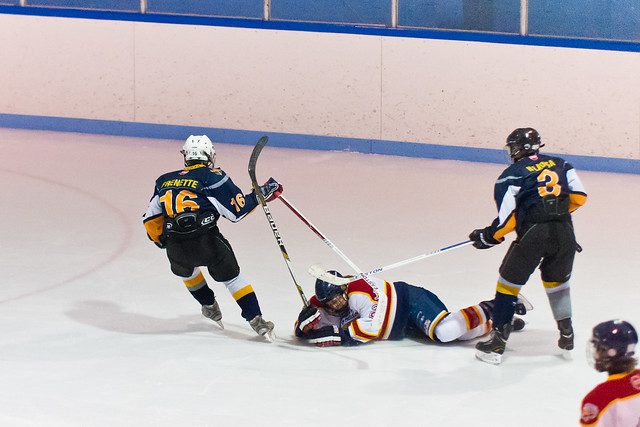person: (141, 133, 284, 344), (470, 127, 590, 366), (295, 270, 535, 348), (580, 320, 640, 427)
